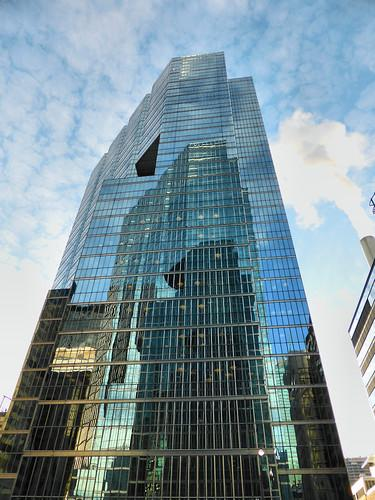building: (3, 48, 364, 500)
